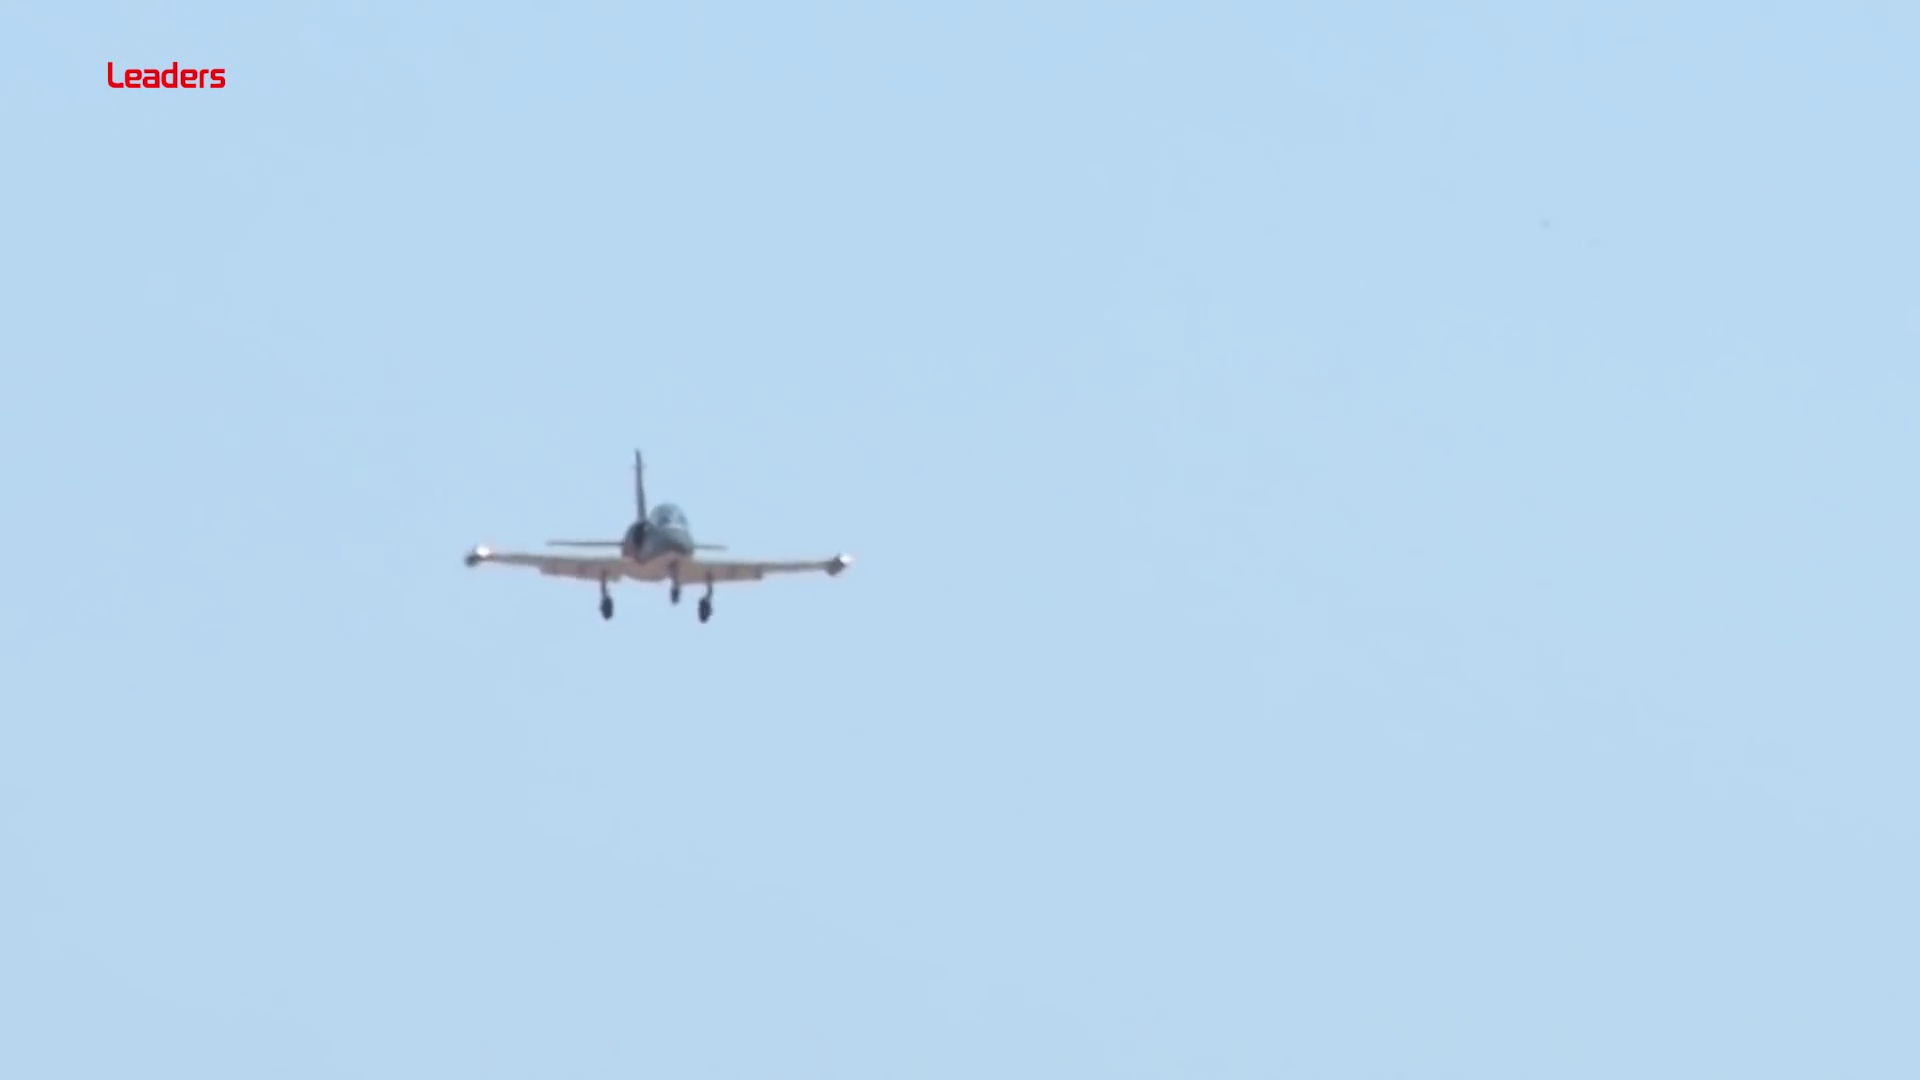Airplane: (462, 450, 855, 625)
